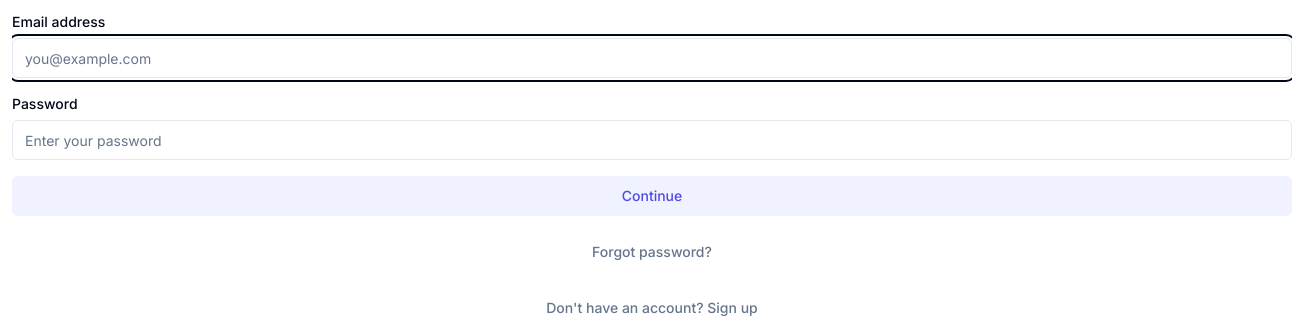
EmailPasswordAuthForm › Sign-in flow › shows loading state during sign-in
Type "test@example.com" into the field labelled "Email address" at (652, 58), box [12,38,1292,78]
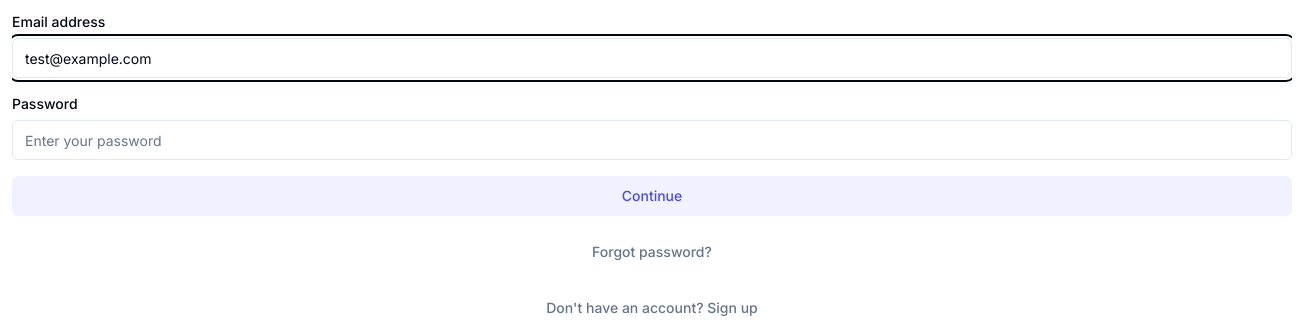
Type "verysecurepassword123" into the password field labelled "Password" at (652, 140), box [12,120,1292,160]
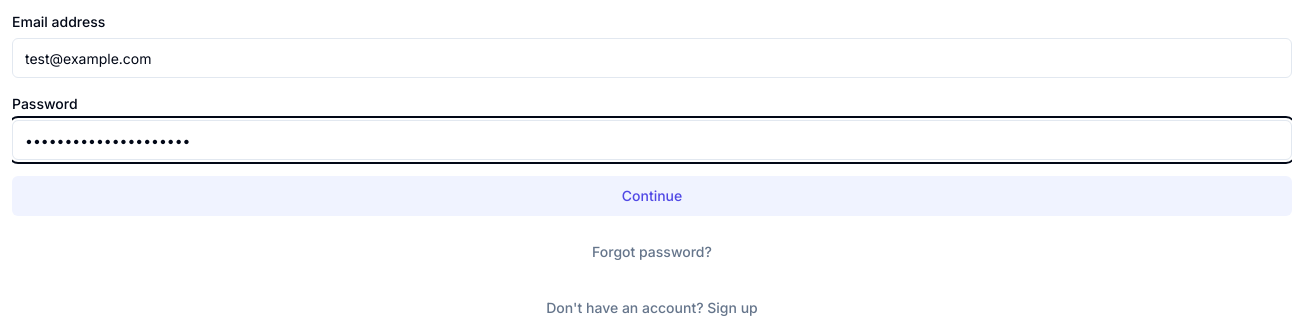
Click the button "Continue" at (652, 196), box [12,176,1292,216]
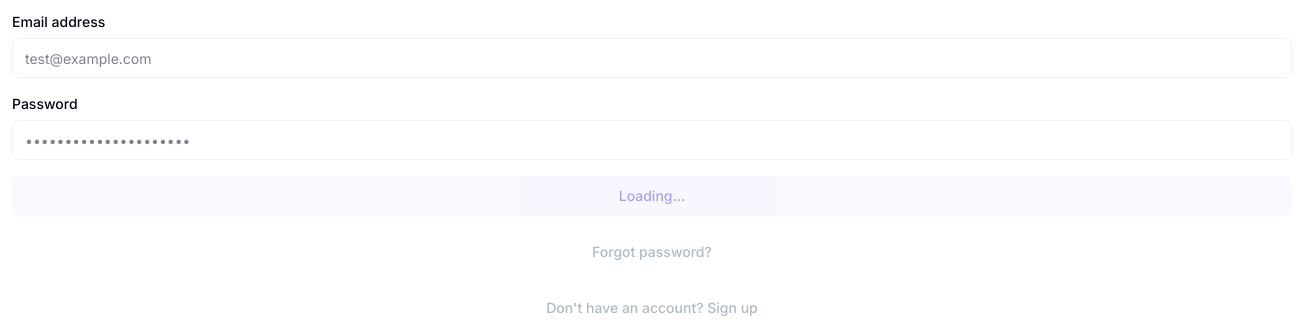
Expected: the button "Loading..." is shown, [12,176,1292,216]
